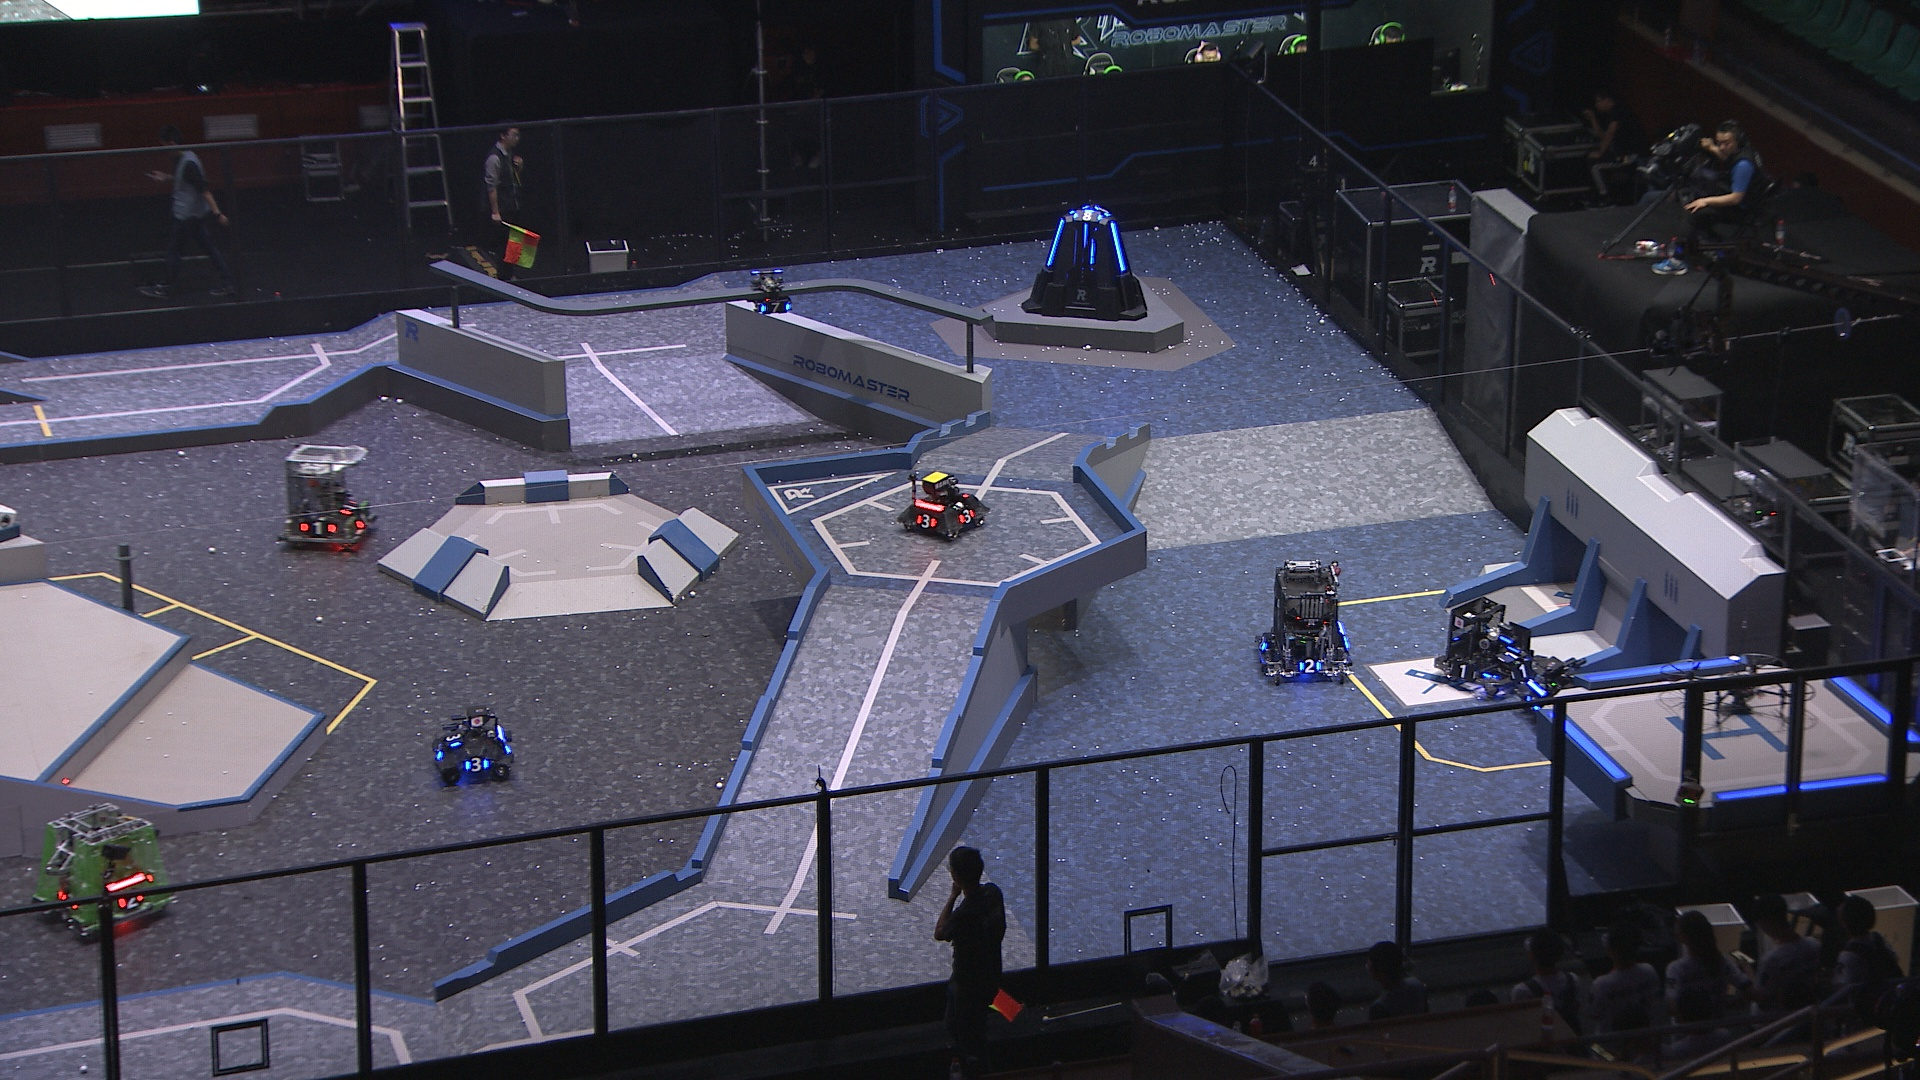armor: (1044, 216, 1065, 268), (1109, 220, 1127, 273), (1447, 659, 1481, 680), (297, 520, 335, 537), (1495, 642, 1523, 665), (115, 893, 144, 911), (339, 496, 363, 518), (1510, 665, 1538, 683), (1296, 655, 1324, 674), (1072, 208, 1105, 223), (463, 756, 491, 773), (913, 512, 939, 529), (760, 301, 793, 314), (443, 731, 465, 749), (955, 506, 977, 524), (353, 510, 372, 529), (433, 740, 446, 764), (1079, 223, 1091, 249), (1257, 633, 1269, 651)
base: (1019, 204, 1149, 322)
car: (30, 804, 178, 940), (1251, 556, 1354, 687), (1433, 593, 1549, 698), (277, 442, 384, 553), (429, 705, 518, 785), (897, 469, 992, 543), (1518, 654, 1604, 723)
watcher: (745, 266, 794, 315)
